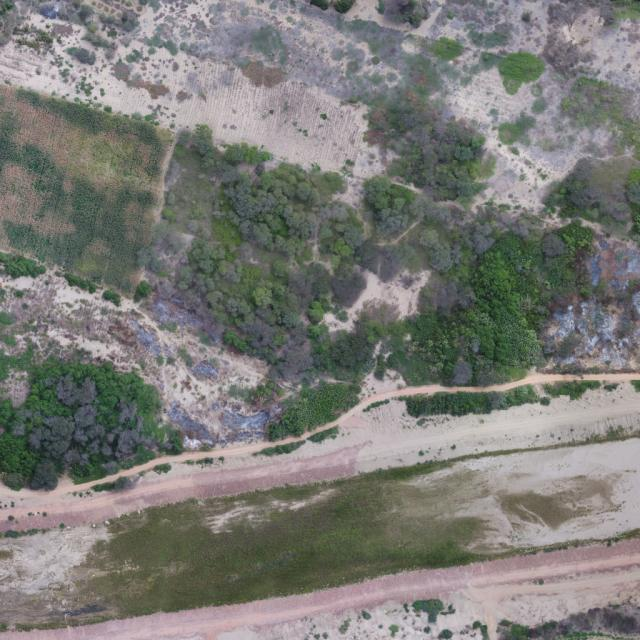dryland: (0, 1, 640, 168), (440, 37, 624, 226), (560, 439, 640, 537), (481, 0, 554, 61)
greenland: (348, 77, 508, 220)
unmetalled_road: (0, 442, 376, 536), (149, 602, 249, 637)
